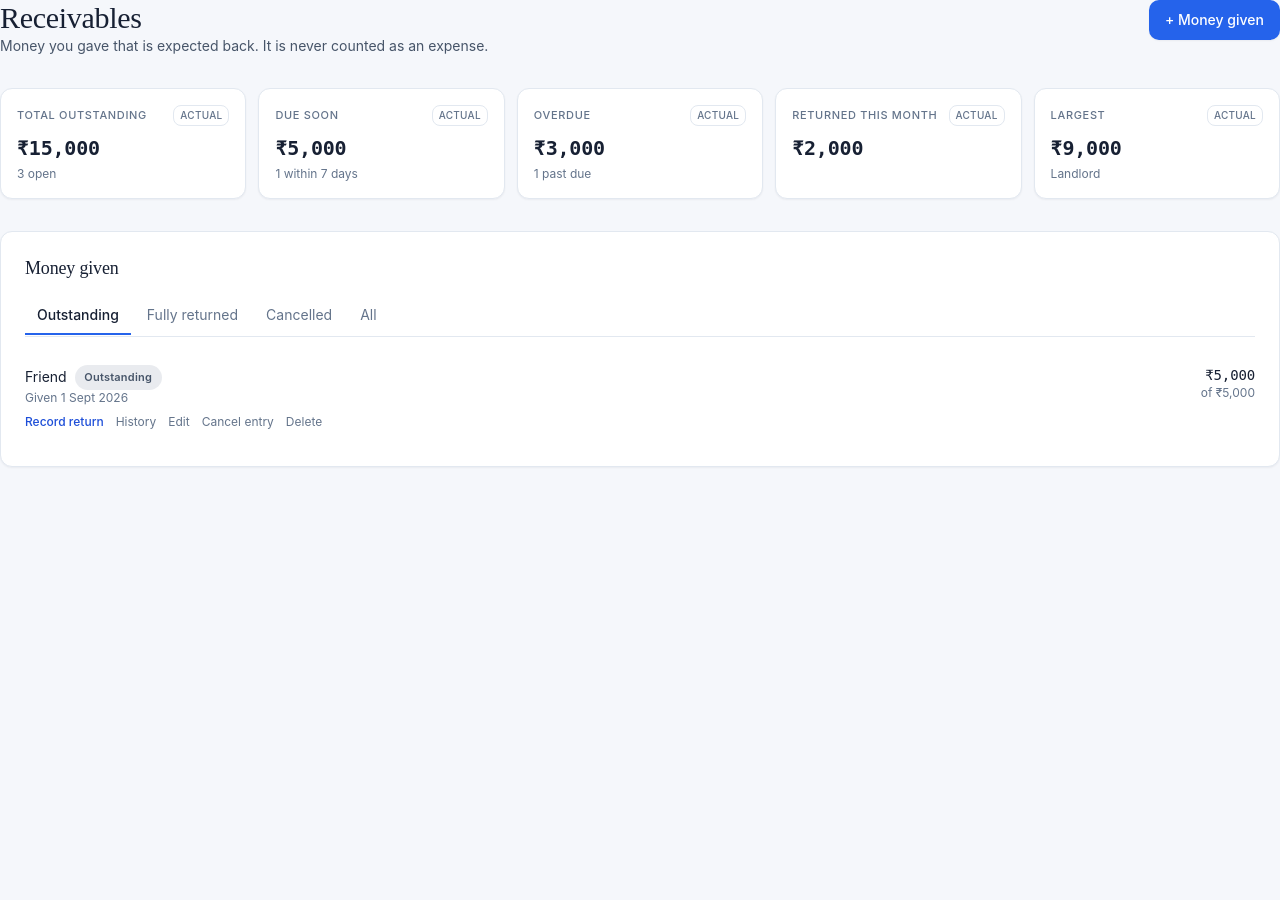
ReceivablesPage › recording a return (Part 57) › says so when the server reports a duplicate submission
The width and height of the screenshot is (1280, 900).
Expected: the text "Friend" is shown, [25, 368, 67, 385]
Click the button "Record return" at (64, 422), box [25, 414, 104, 430]
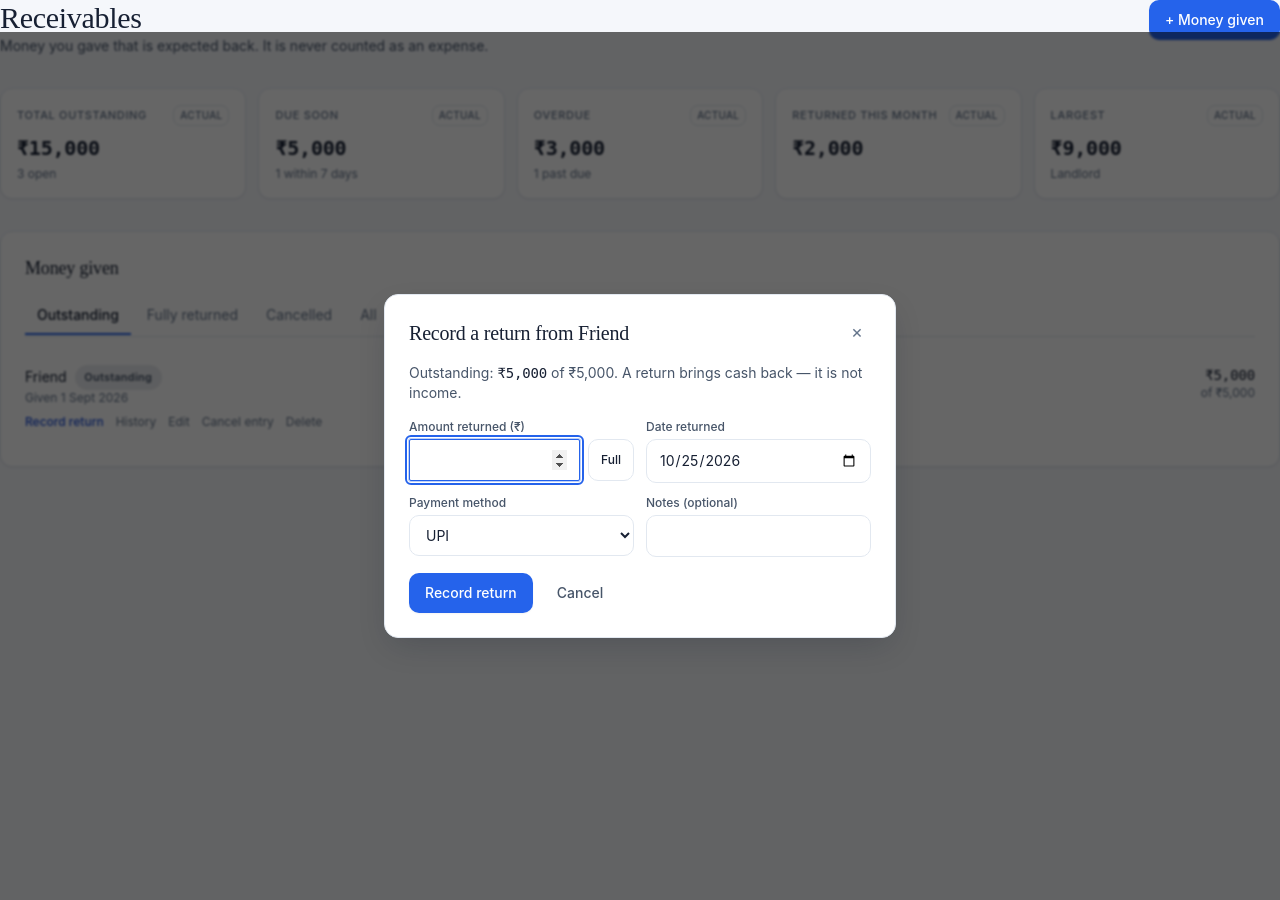
Type "1000" into the number field labelled "Amount returned (₹)" at (495, 460), box [409, 439, 580, 481]
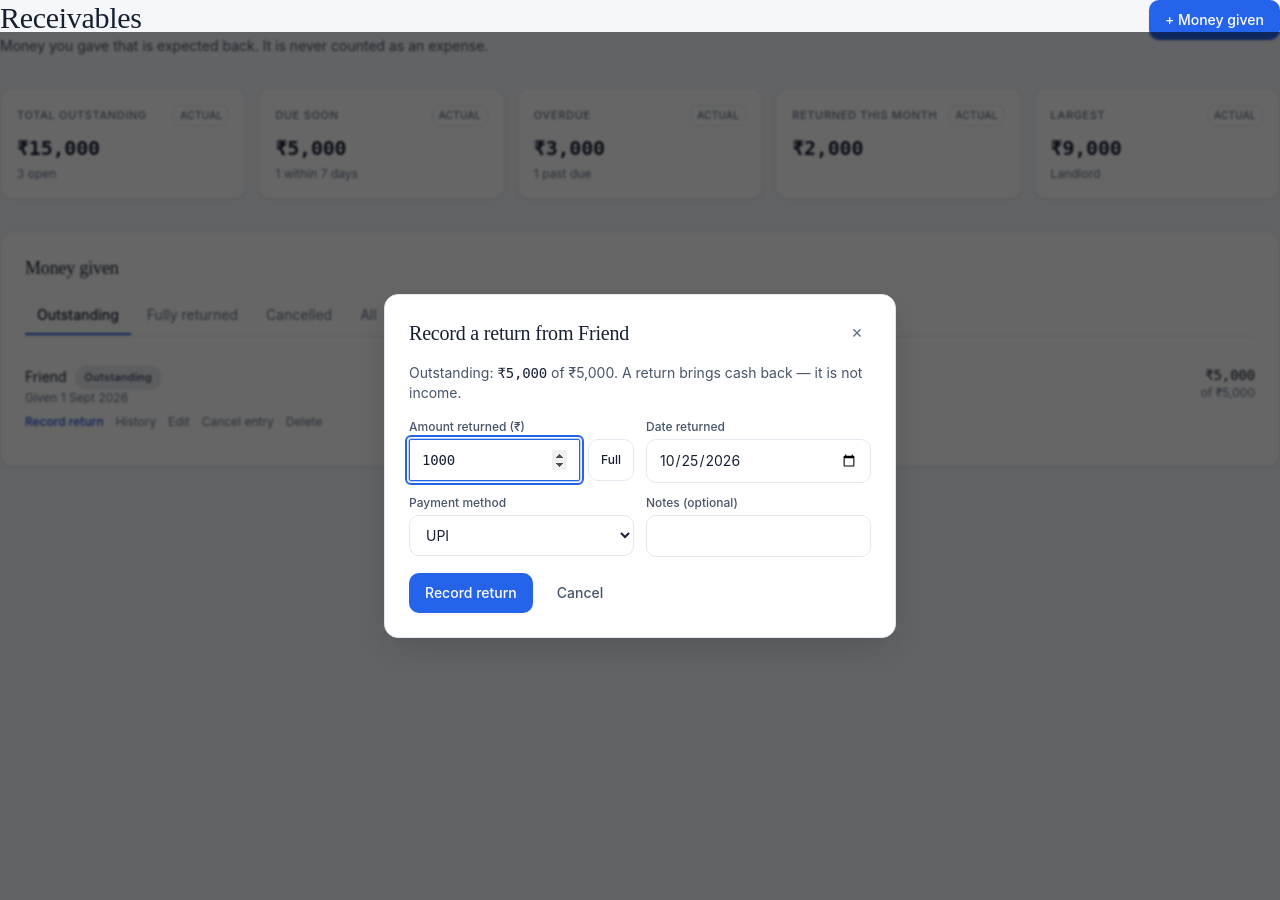
Click the button "Record return" at (471, 593), box [409, 573, 533, 613]
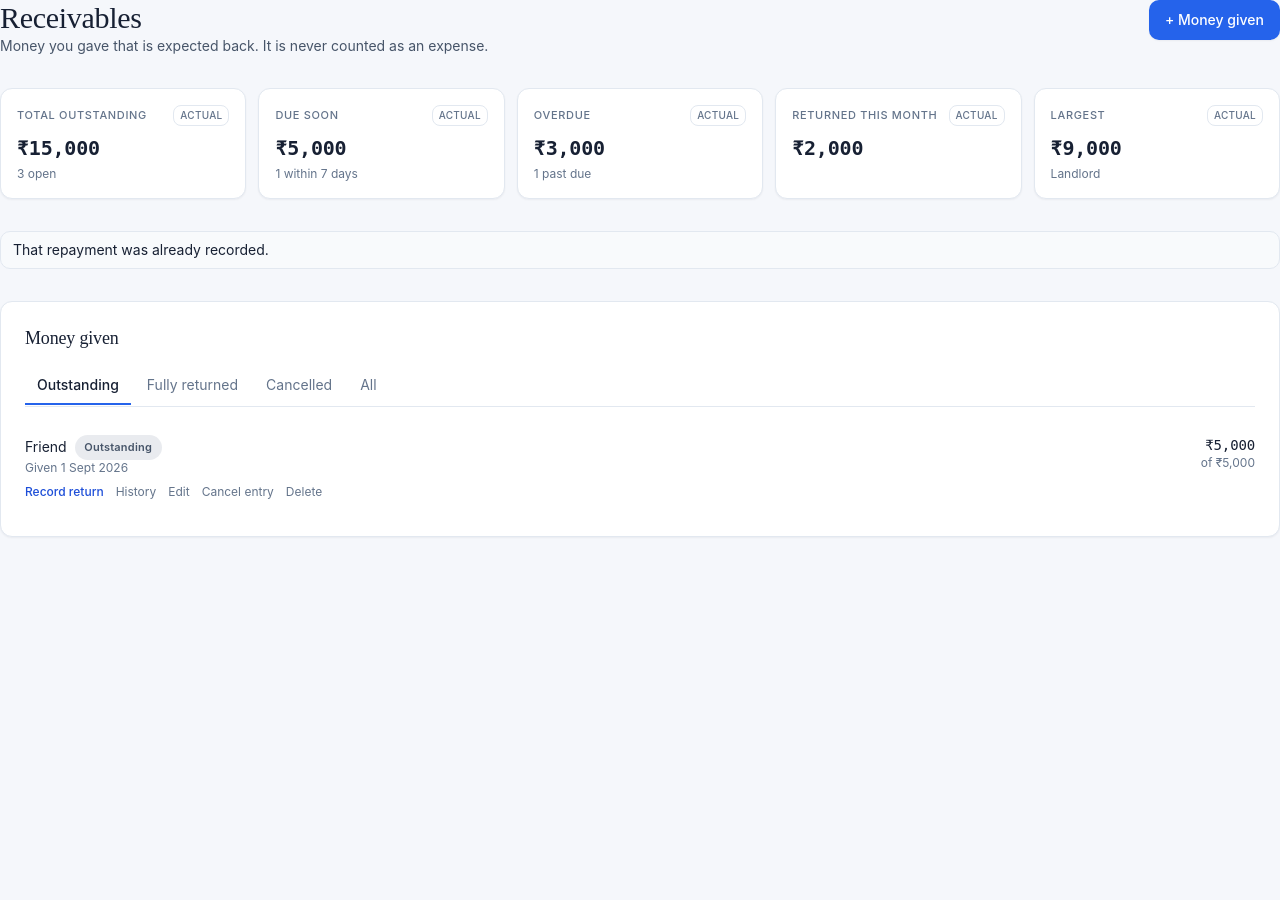
Expected: the message shows "already recorded", [13, 241, 269, 258]
